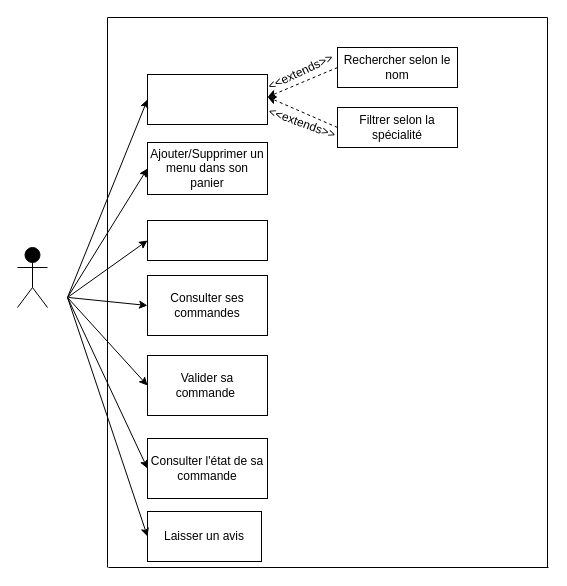
The diagram is 567 pixels wide and 586 high, and some of its shapes have lost their labels. The box of each missing label's shape, as (x1, y1, x2, y2) in pixels:
Client: (16, 246, 48, 308)
Modifier la quantité d'un menu: (146, 220, 268, 260)
Rechercher un restaurant selon la localisation: (146, 74, 268, 124)
